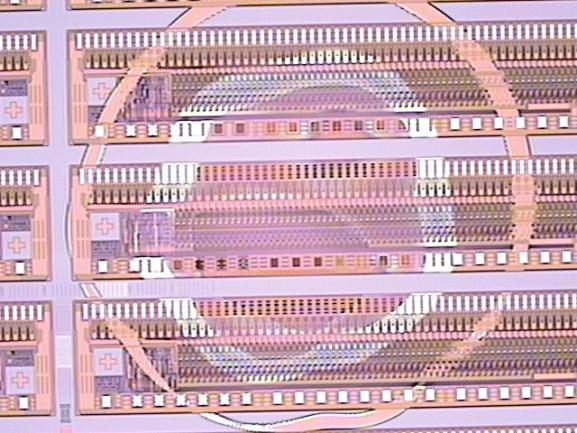COATING BAD: (61, 1, 549, 433)
